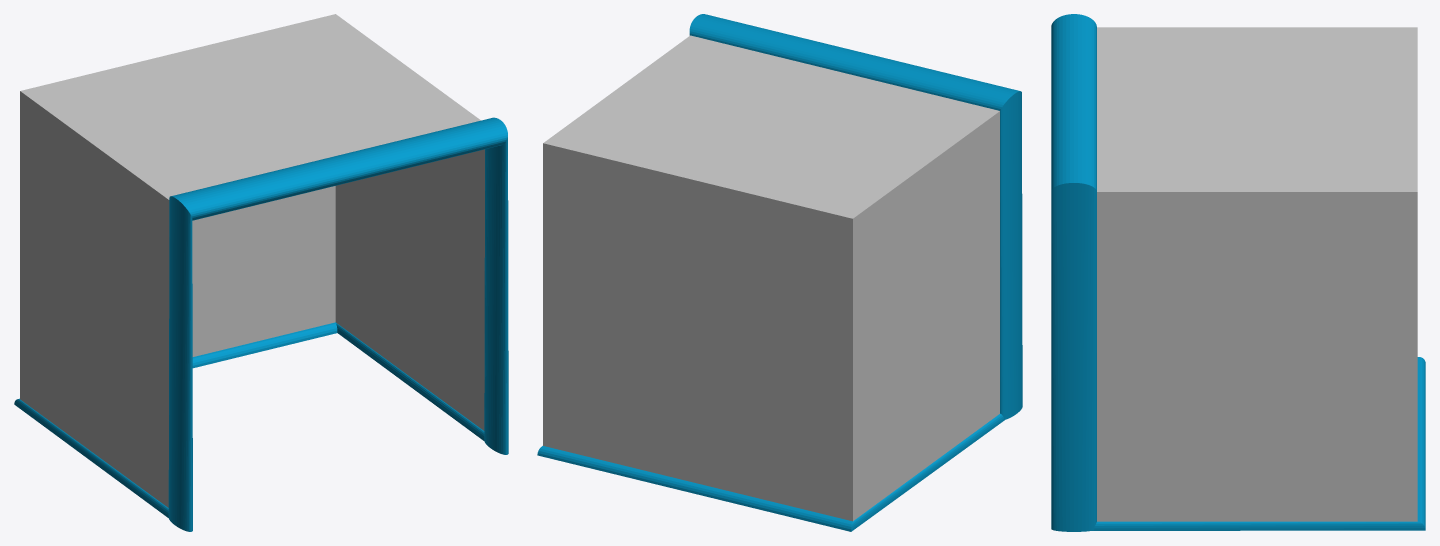
Rendered from rightsoccergoal.obj.
The picture shows the model from 3 angles, left to right: view 1: azimuth 30°, elevation 25°; view 2: azimuth 150°, elevation 25°; view 3: azimuth 270°, elevation 25°; orthographic projection. The views are drawn at different scales.
Parts seen in each view (by area): view 1: NetInner_NetInnerCube, Goalposts_GoalpostTube, NetOuter_NetOuterCube, Groundring_GroundringTube; view 2: NetInner_NetInnerCube, NetOuter_NetOuterCube, Goalposts_GoalpostTube, Groundring_GroundringTube; view 3: NetInner_NetInnerCube, NetOuter_NetOuterCube, Goalposts_GoalpostTube, Groundring_GroundringTube.
Part boxes in pixels (x1=…): NetInner_NetInnerCube: x1=20, y1=14, x2=484, y2=507; Goalposts_GoalpostTube: x1=168, y1=117, x2=508, y2=531; NetOuter_NetOuterCube: x1=20, y1=92, x2=484, y2=410; Groundring_GroundringTube: x1=14, y1=322, x2=484, y2=517; NetInner_NetInnerCube: x1=543, y1=35, x2=999, y2=521; NetOuter_NetOuterCube: x1=543, y1=42, x2=999, y2=518; Goalposts_GoalpostTube: x1=689, y1=14, x2=1022, y2=419; Groundring_GroundringTube: x1=537, y1=413, x2=1004, y2=531; NetInner_NetInnerCube: x1=1097, y1=27, x2=1417, y2=521; NetOuter_NetOuterCube: x1=1097, y1=27, x2=1417, y2=502; Goalposts_GoalpostTube: x1=1051, y1=14, x2=1096, y2=531; Groundring_GroundringTube: x1=1092, y1=357, x2=1425, y2=530.
Size of the model in its own units: 1.04 by 0.9883 by 0.962.
